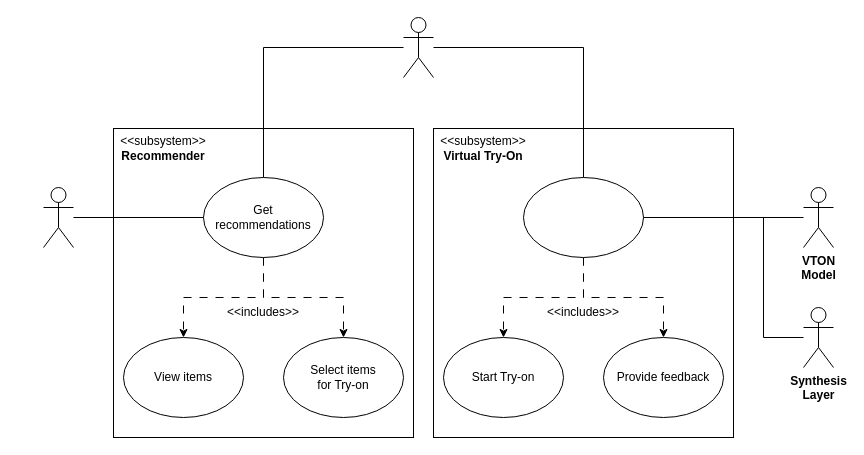
This 864x455 diagram has some shape labels left out. Here are the shapes that lost their labels. From the top down, the centre of each, then its label:
(418,47): Customer
(58,217): Recommender Model
(583,217): Try-on
